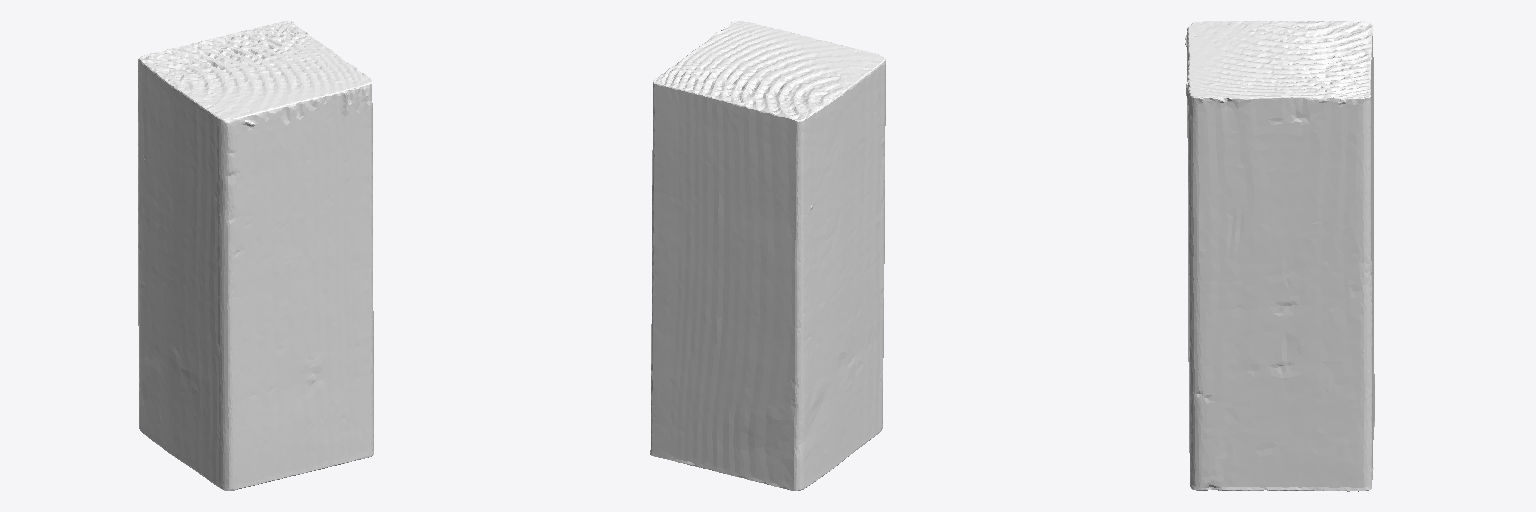
robot.urdf — spoon:
<robot name="spoon">
	<link name="base_link">
		<visual>
			<origin xyz="0.01805591680130397 0.010160565119345408 -0.010048592434568833" rpy="0.0 0.0 0.0" />
			<geometry>
				<mesh filename="031_spoon/google_16k/textured.obj" scale="1 1 1" />
			</geometry>
			<material name="texture">
				<color rgba="1.0 1.0 1.0 1.0" />
			</material>
		</visual>
		<collision>
			<origin xyz="0.01805591680130397 0.010160565119345408 -0.010048592434568833" rpy="0.0 0.0 0.0" />
			<geometry>
				<mesh filename="031_spoon/google_16k/textured_vhacd.obj" scale="1 1 1" />
			</geometry>
		</collision>
		<inertial>
			<mass value="0.030" />
			<inertia ixx="1e-3" ixy="0.0" ixz="0.0" iyy="1e-3" iyz="0.0" izz="1e-3" />
		</inertial>
	</link>
</robot>

--- What the picture shows (computed from the rendered views, not written in the file) ---
The picture shows the robot from 3 angles, left to right: view 1: azimuth 30°, elevation 25°; view 2: azimuth 150°, elevation 25°; view 3: azimuth 270°, elevation 25°; orthographic projection.
Model spoon with 1 links and 0 joints (none), rooted at base_link, posed all joints at 0.
Visible links, largest first — view 1: base_link; view 2: base_link; view 3: base_link.
Boxes of the visible links, x1,y1,x2,y2 form: base_link: (138,21,373,490); base_link: (650,21,885,490); base_link: (1185,20,1374,491).
Size in the robot's own frame: 0.0906 by 0.0899 by 0.206 metres.
Meshes: 1 distinct files referenced, 1 mesh visuals loaded (1 OBJ).